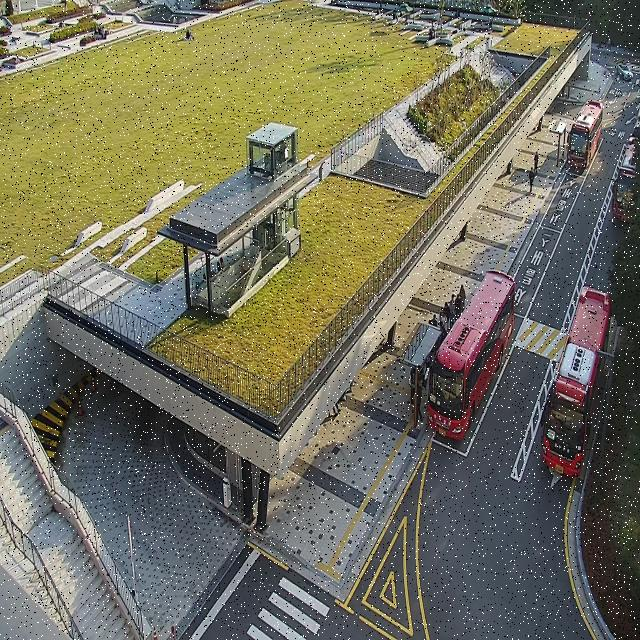queue: (416, 284, 464, 432)
